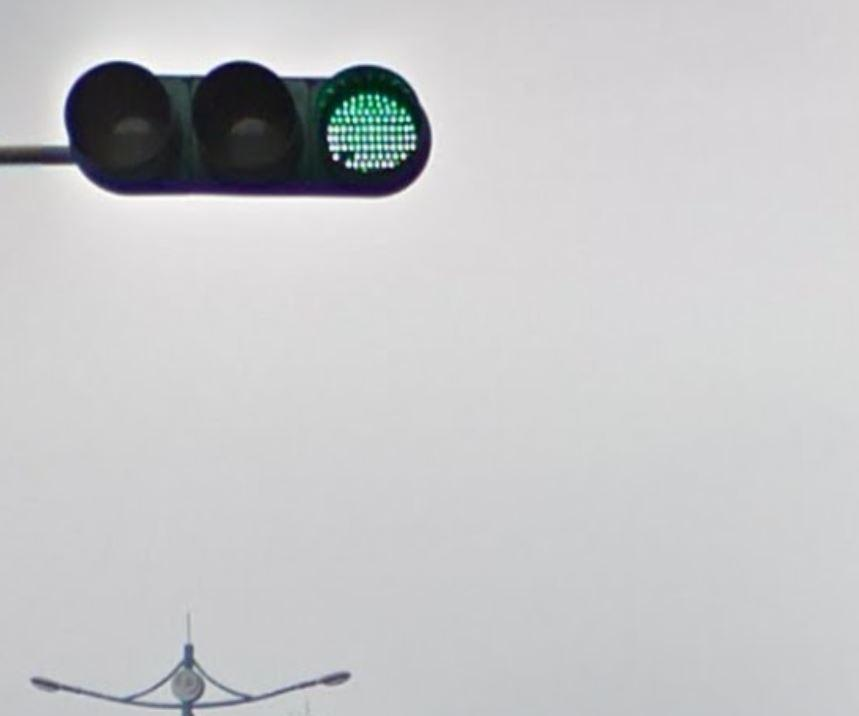green_traffic_light: (58, 55, 436, 206)
